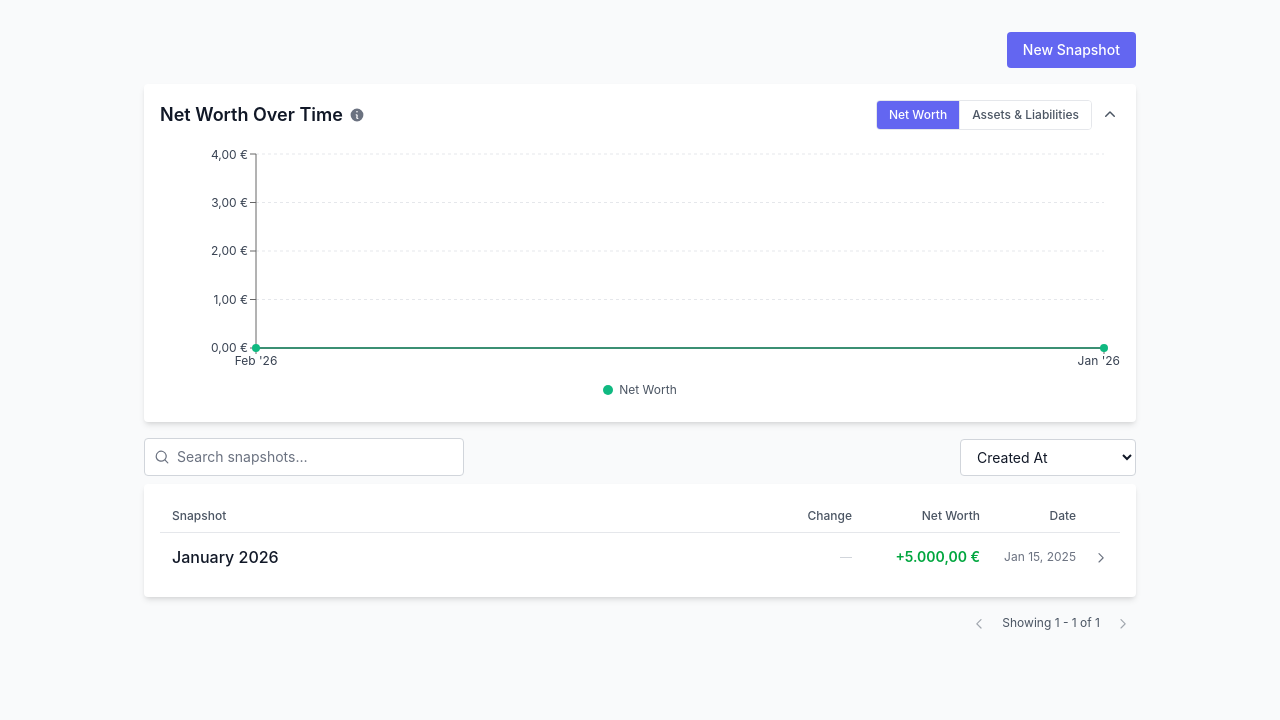
Test: NetWorth › trend chart › switches to breakdown view when Assets & Liabilities is clicked
The image size is (1280, 720).
Expected: the heading "Net Worth Over Time" is shown, [160,101,343,129]
Click the button "Assets & Liabilities" at point(1025, 115), box [959,101,1091,129]
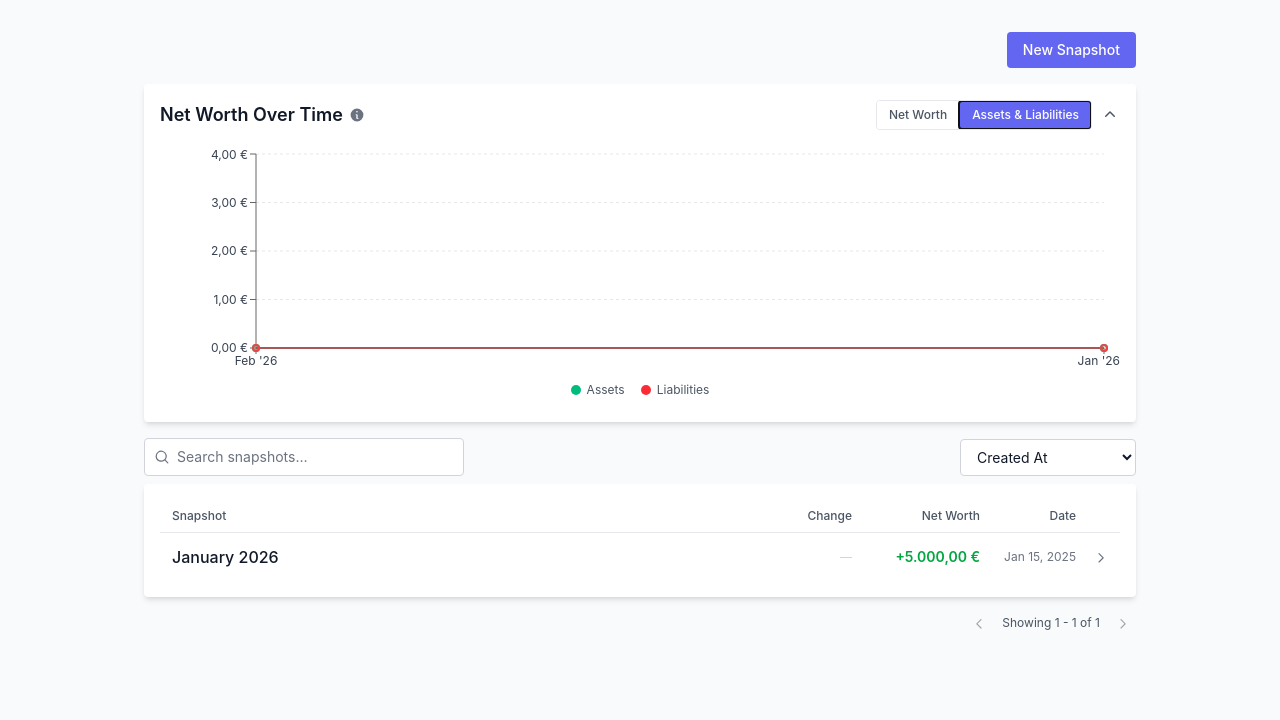
Result: the text "Assets" is shown at [571,382,625,398]
Result: the text "Liabilities" is shown at [641,382,709,398]
